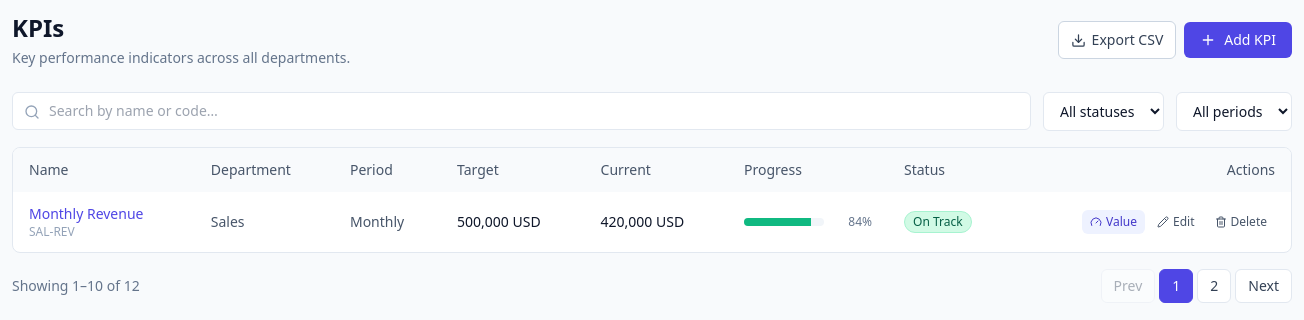
KpisPage Integration & Workflow Tests › Pagination Behaviour › renders pagination and enforces disabled boundary buttons on page 1 and last page
The image size is (1304, 320).
Check: the link "Monthly Revenue" is shown, box [29,204,144,223]
Check: the button "Prev" is disabled, box [1100,269,1155,303]
Click the button "Next" at point(1264, 286), box [1235,269,1292,303]
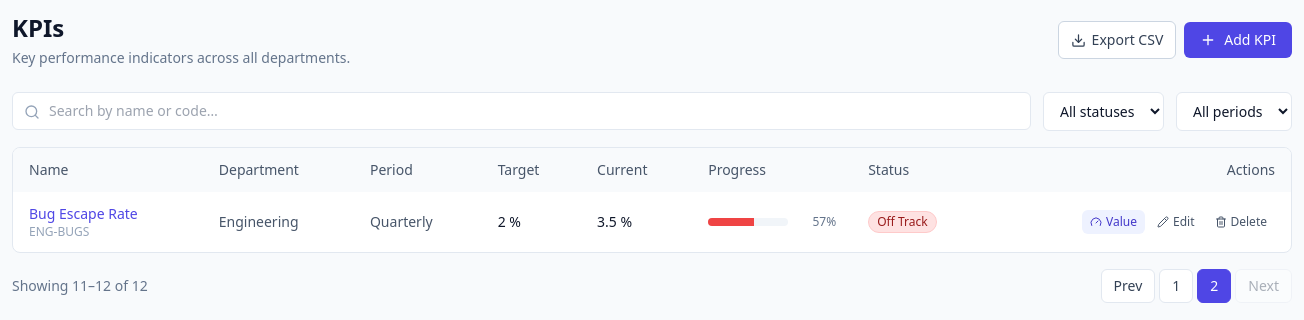
Check: the button "Next" is disabled, box [1235,269,1292,303]
Check: the button "Prev" is enabled, box [1100,269,1155,303]
